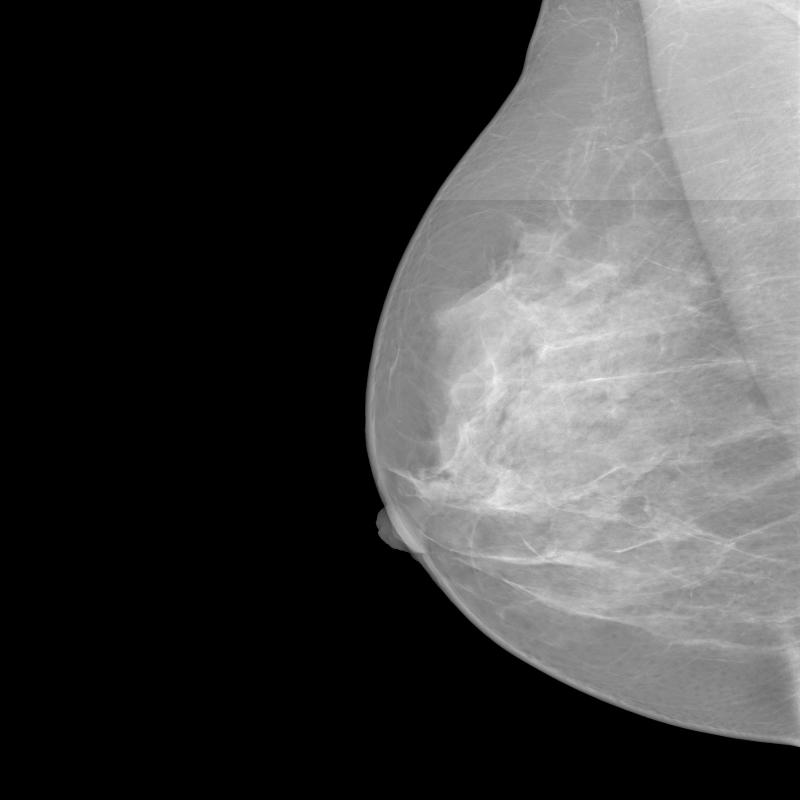No-Mass: (649, 512, 705, 541)
